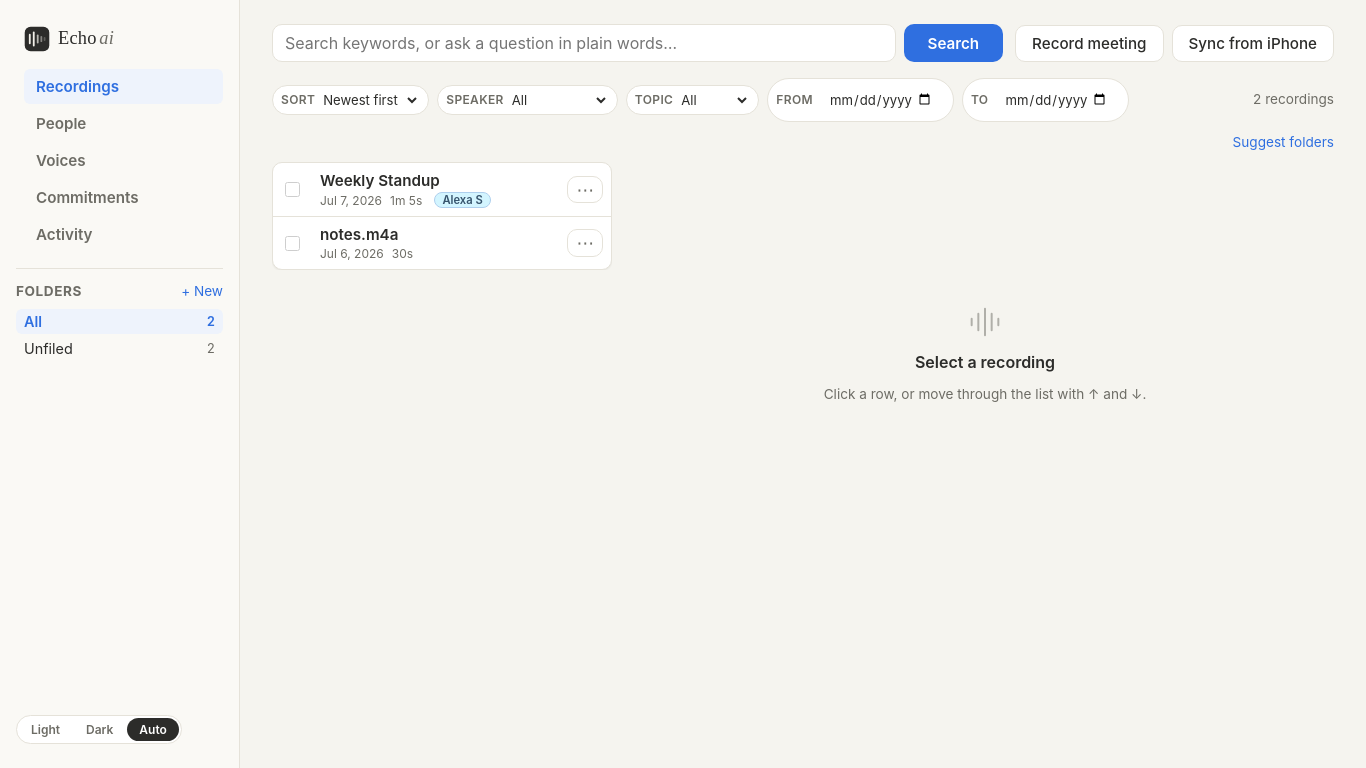
Test case: App › filters recordings by speaker
The image size is (1366, 768).
Expected: the text "Weekly Standup" is shown, [320,171,440,190]
Select "Alexa S" in the dropdown labelled "Speaker": (558, 100) [508,91,609,109]
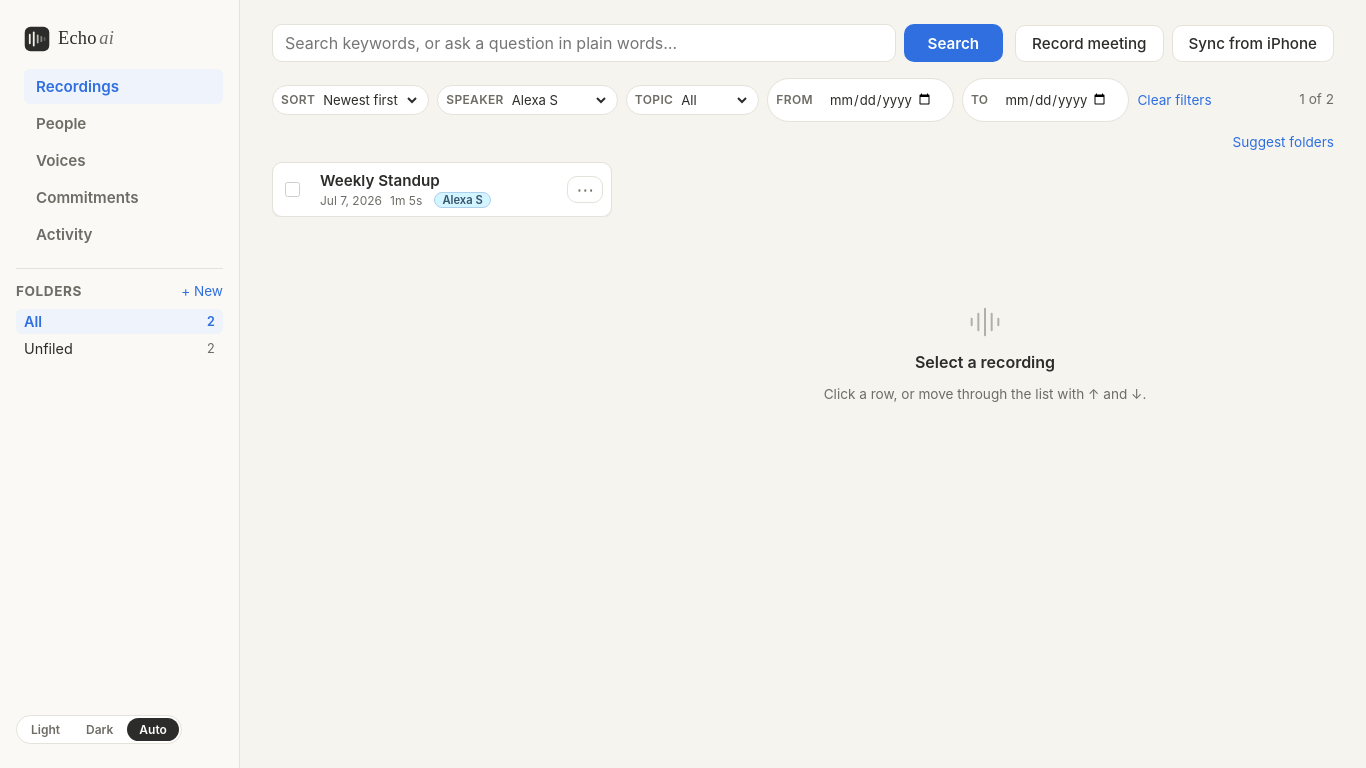
Expected: the text "Weekly Standup" is shown, [320,171,440,190]
Result: the button "notes.m4a" is gone
Result: the text "1 of 2" is shown at [1299,89,1334,111]
